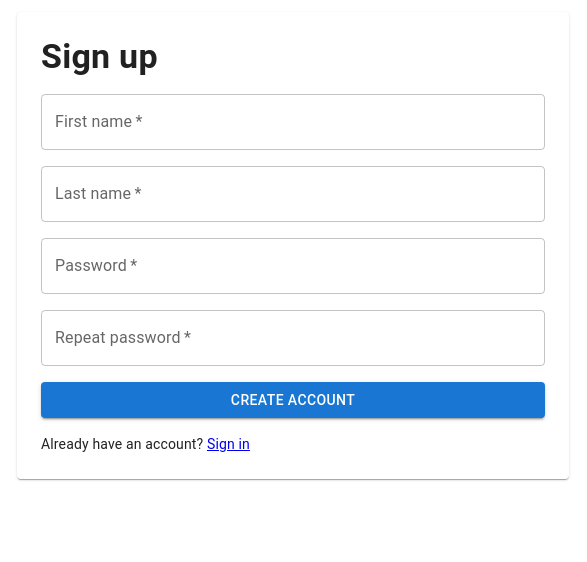
Test: SignUpPage › shows generic error when thrown value is not Error
Type "John" into the field labelled "First name *". click: (293, 122)
box: [41, 94, 545, 150]
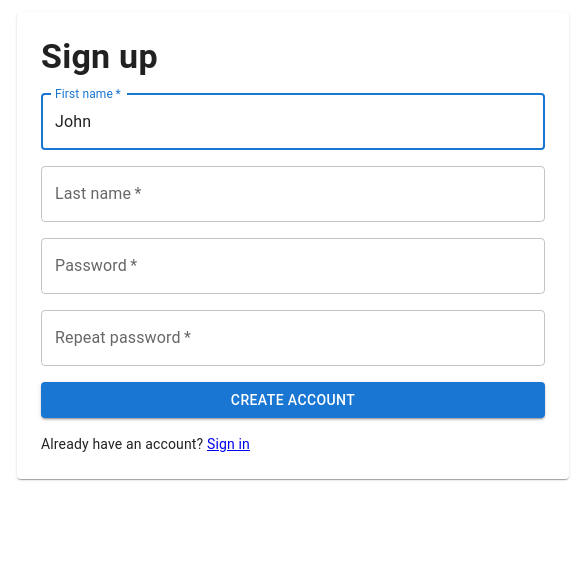
Type "Doe" into the field labelled "Last name *". click: (293, 194)
box: [41, 166, 545, 222]
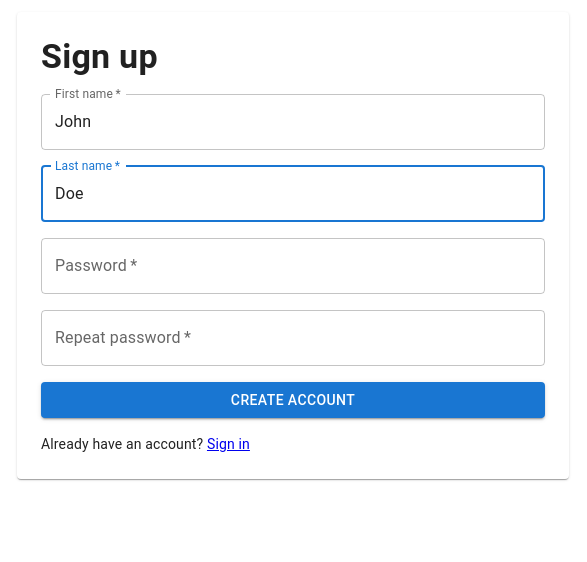
Type "pass123" into the password field labelled "Password *". click: (293, 266)
box: [41, 238, 545, 294]
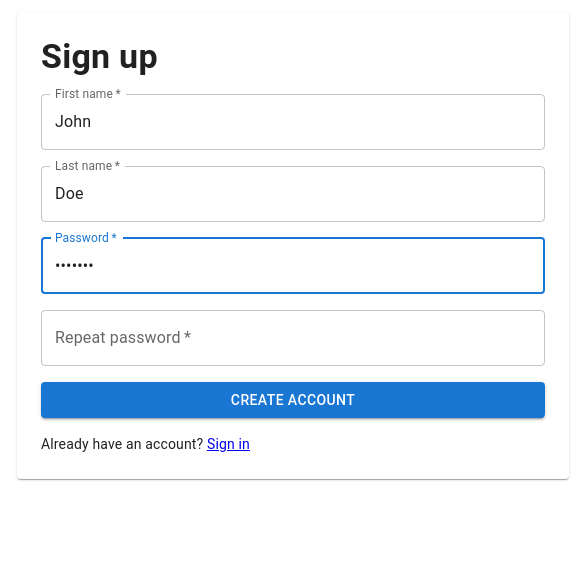
Type "pass123" into the password field labelled "Repeat password *". click: (293, 338)
box: [41, 310, 545, 366]
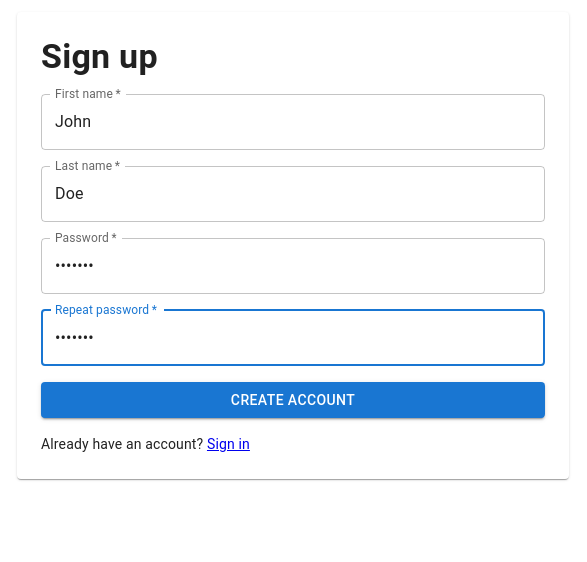
Click the button "Create account". click: (293, 400)
box: [41, 382, 545, 418]
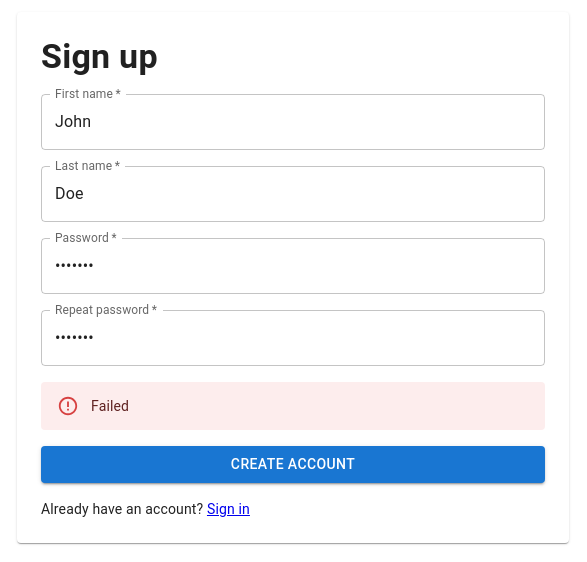
Result: the text "Failed" is shown at [91, 398, 129, 414]
